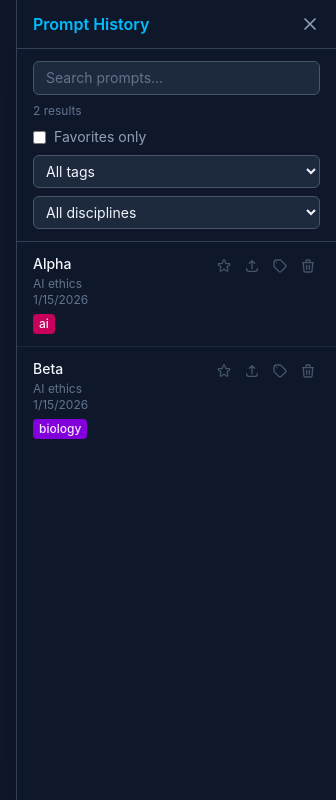
Test case: PromptHistory — enhanced search › filters records by tag when tag filter is changed
Select "ai" in the dropdown named "filter by tag" at (176, 172), box [33,155,320,188]
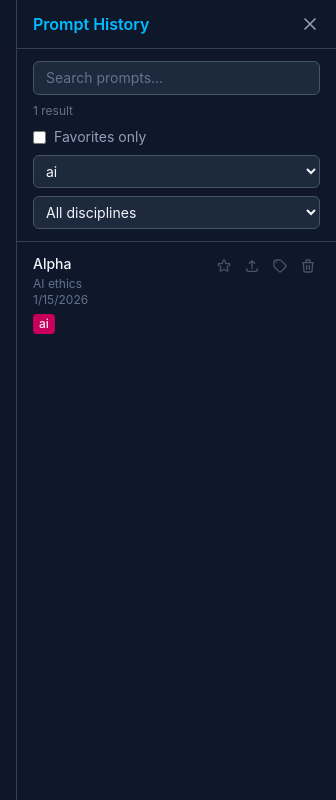
Check: the text "Alpha" is shown, box [33,255,72,272]
Check: the text "Beta" is gone
